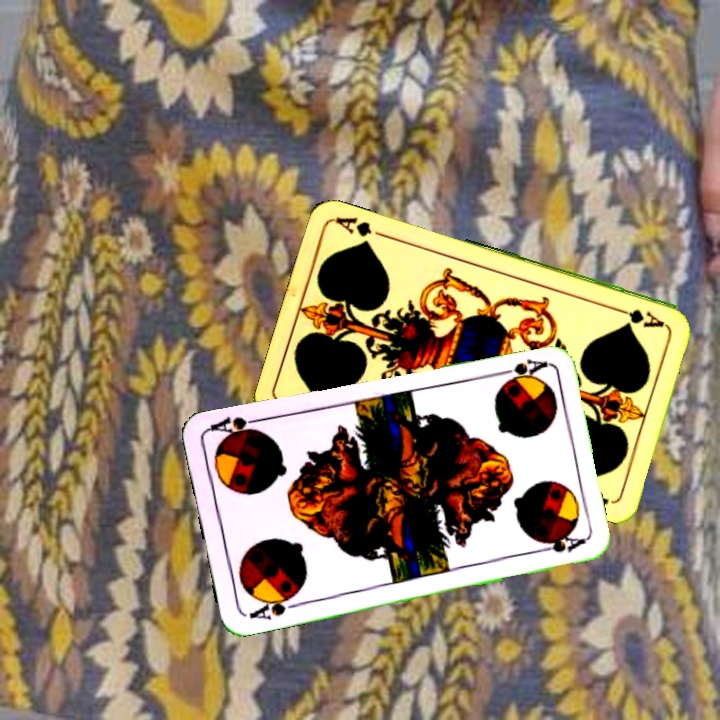GA: (609, 303, 667, 330)
SA: (245, 589, 302, 623), (490, 354, 549, 385)
